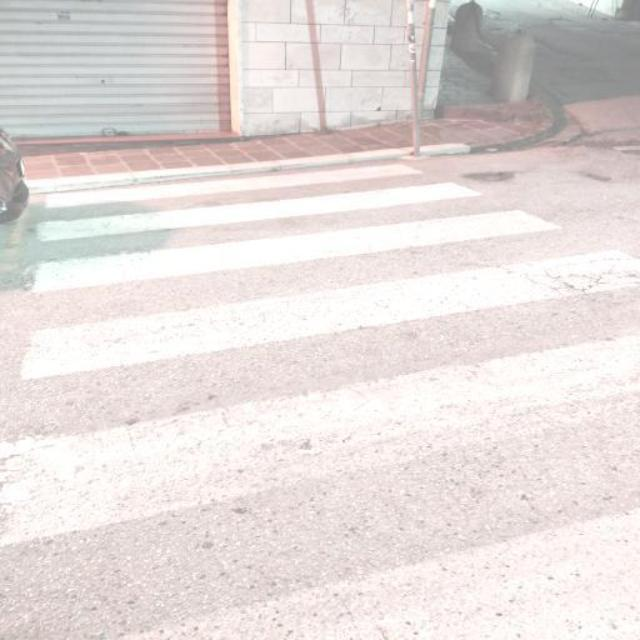sidewalk: (0, 155, 640, 640)
